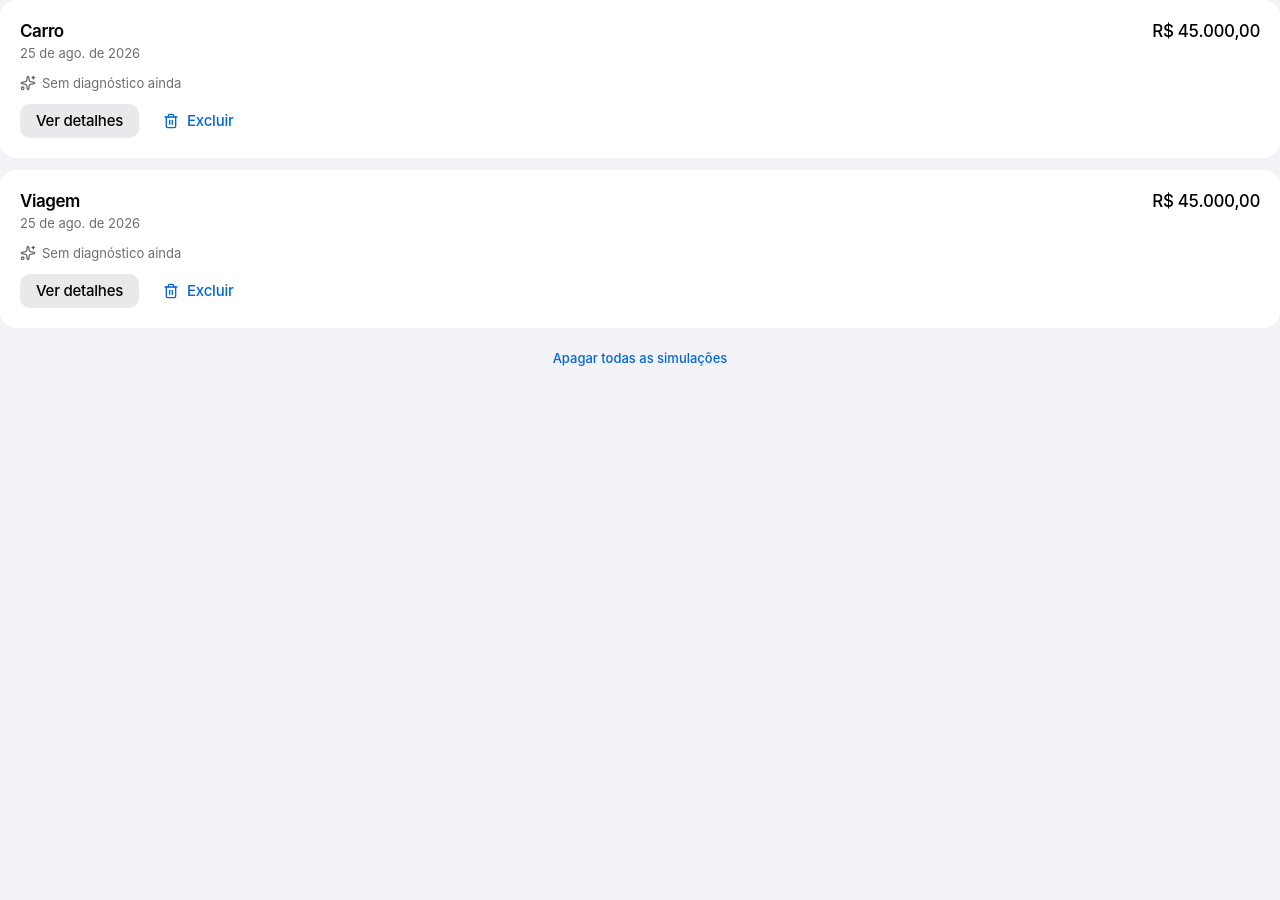
HistoryList › apagar tudo passa pela mesma confirmação e esvazia a lista
Click the button "Apagar todas as simulações". click: (640, 358)
box: [0, 344, 1279, 372]
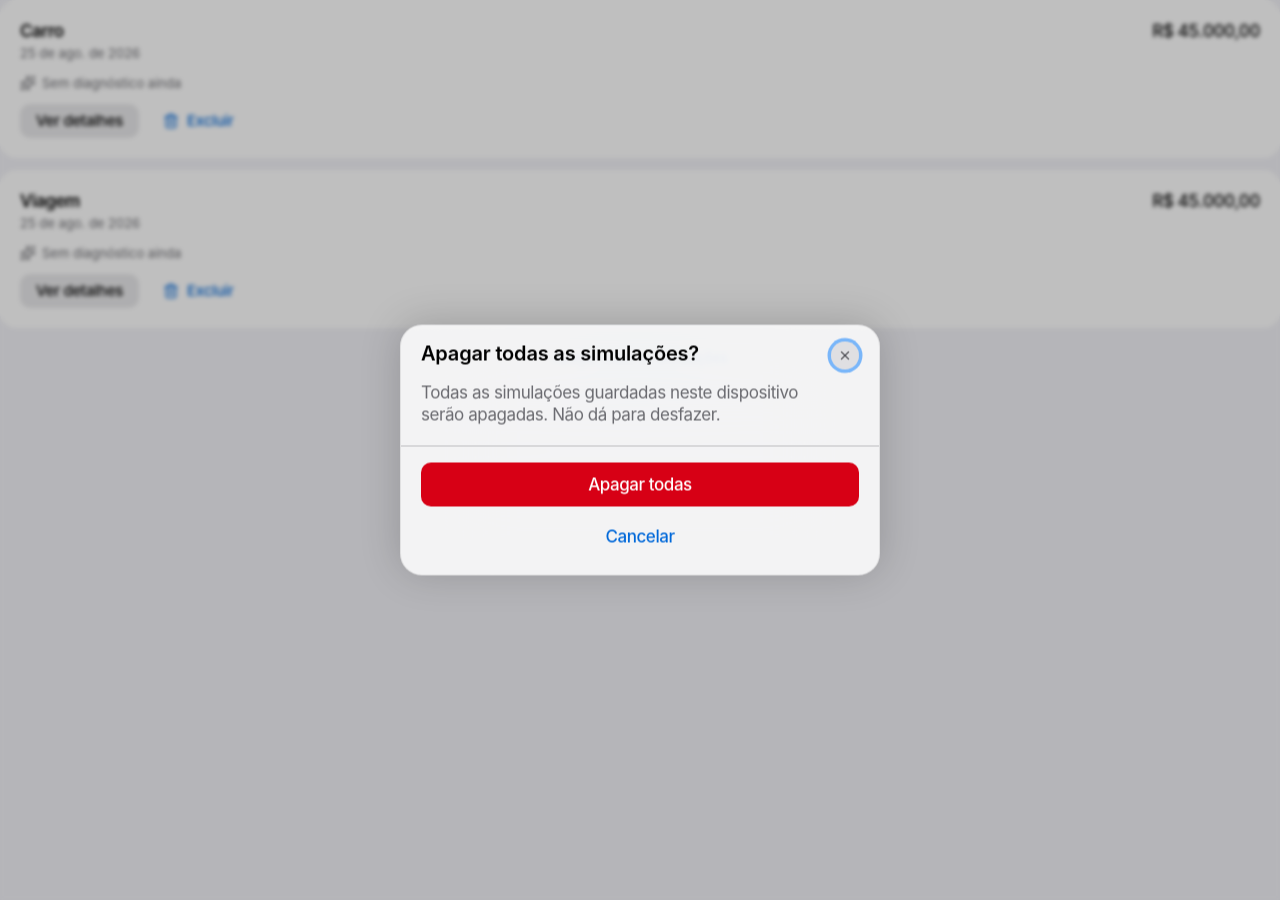
Click the button "Apagar todas". click: (640, 484)
box: [421, 462, 859, 506]
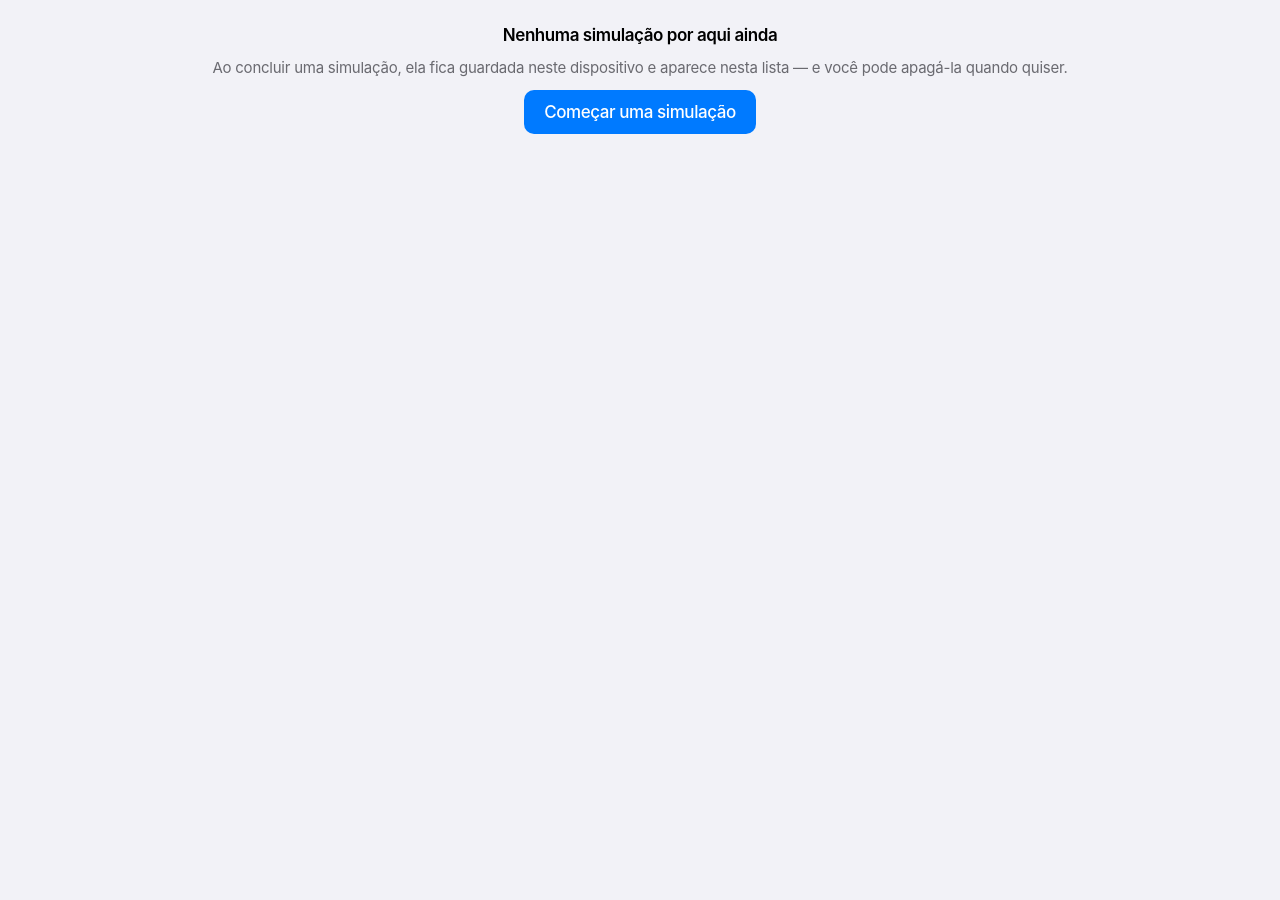
Now the text "Nenhuma simulação por aqui ainda" is shown, box [503, 24, 777, 46]
